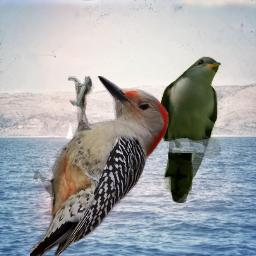Cuckoo: (158, 56, 221, 203)
Woodpecker: (30, 76, 169, 256)
